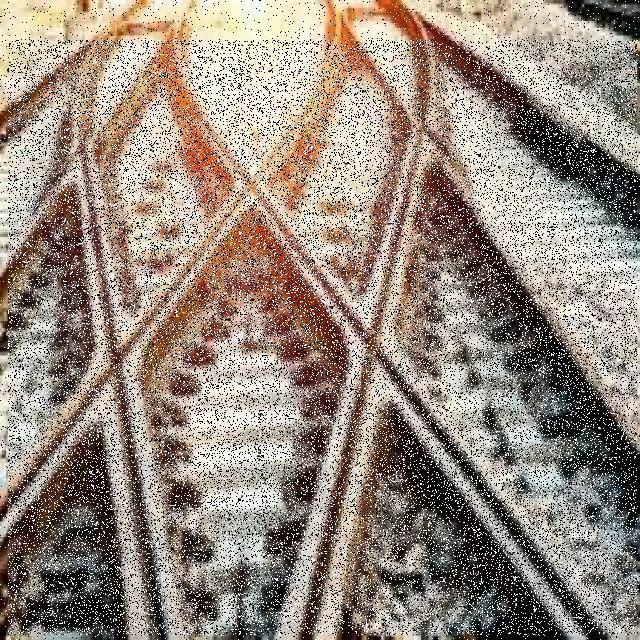rail: (9, 41, 638, 636)
